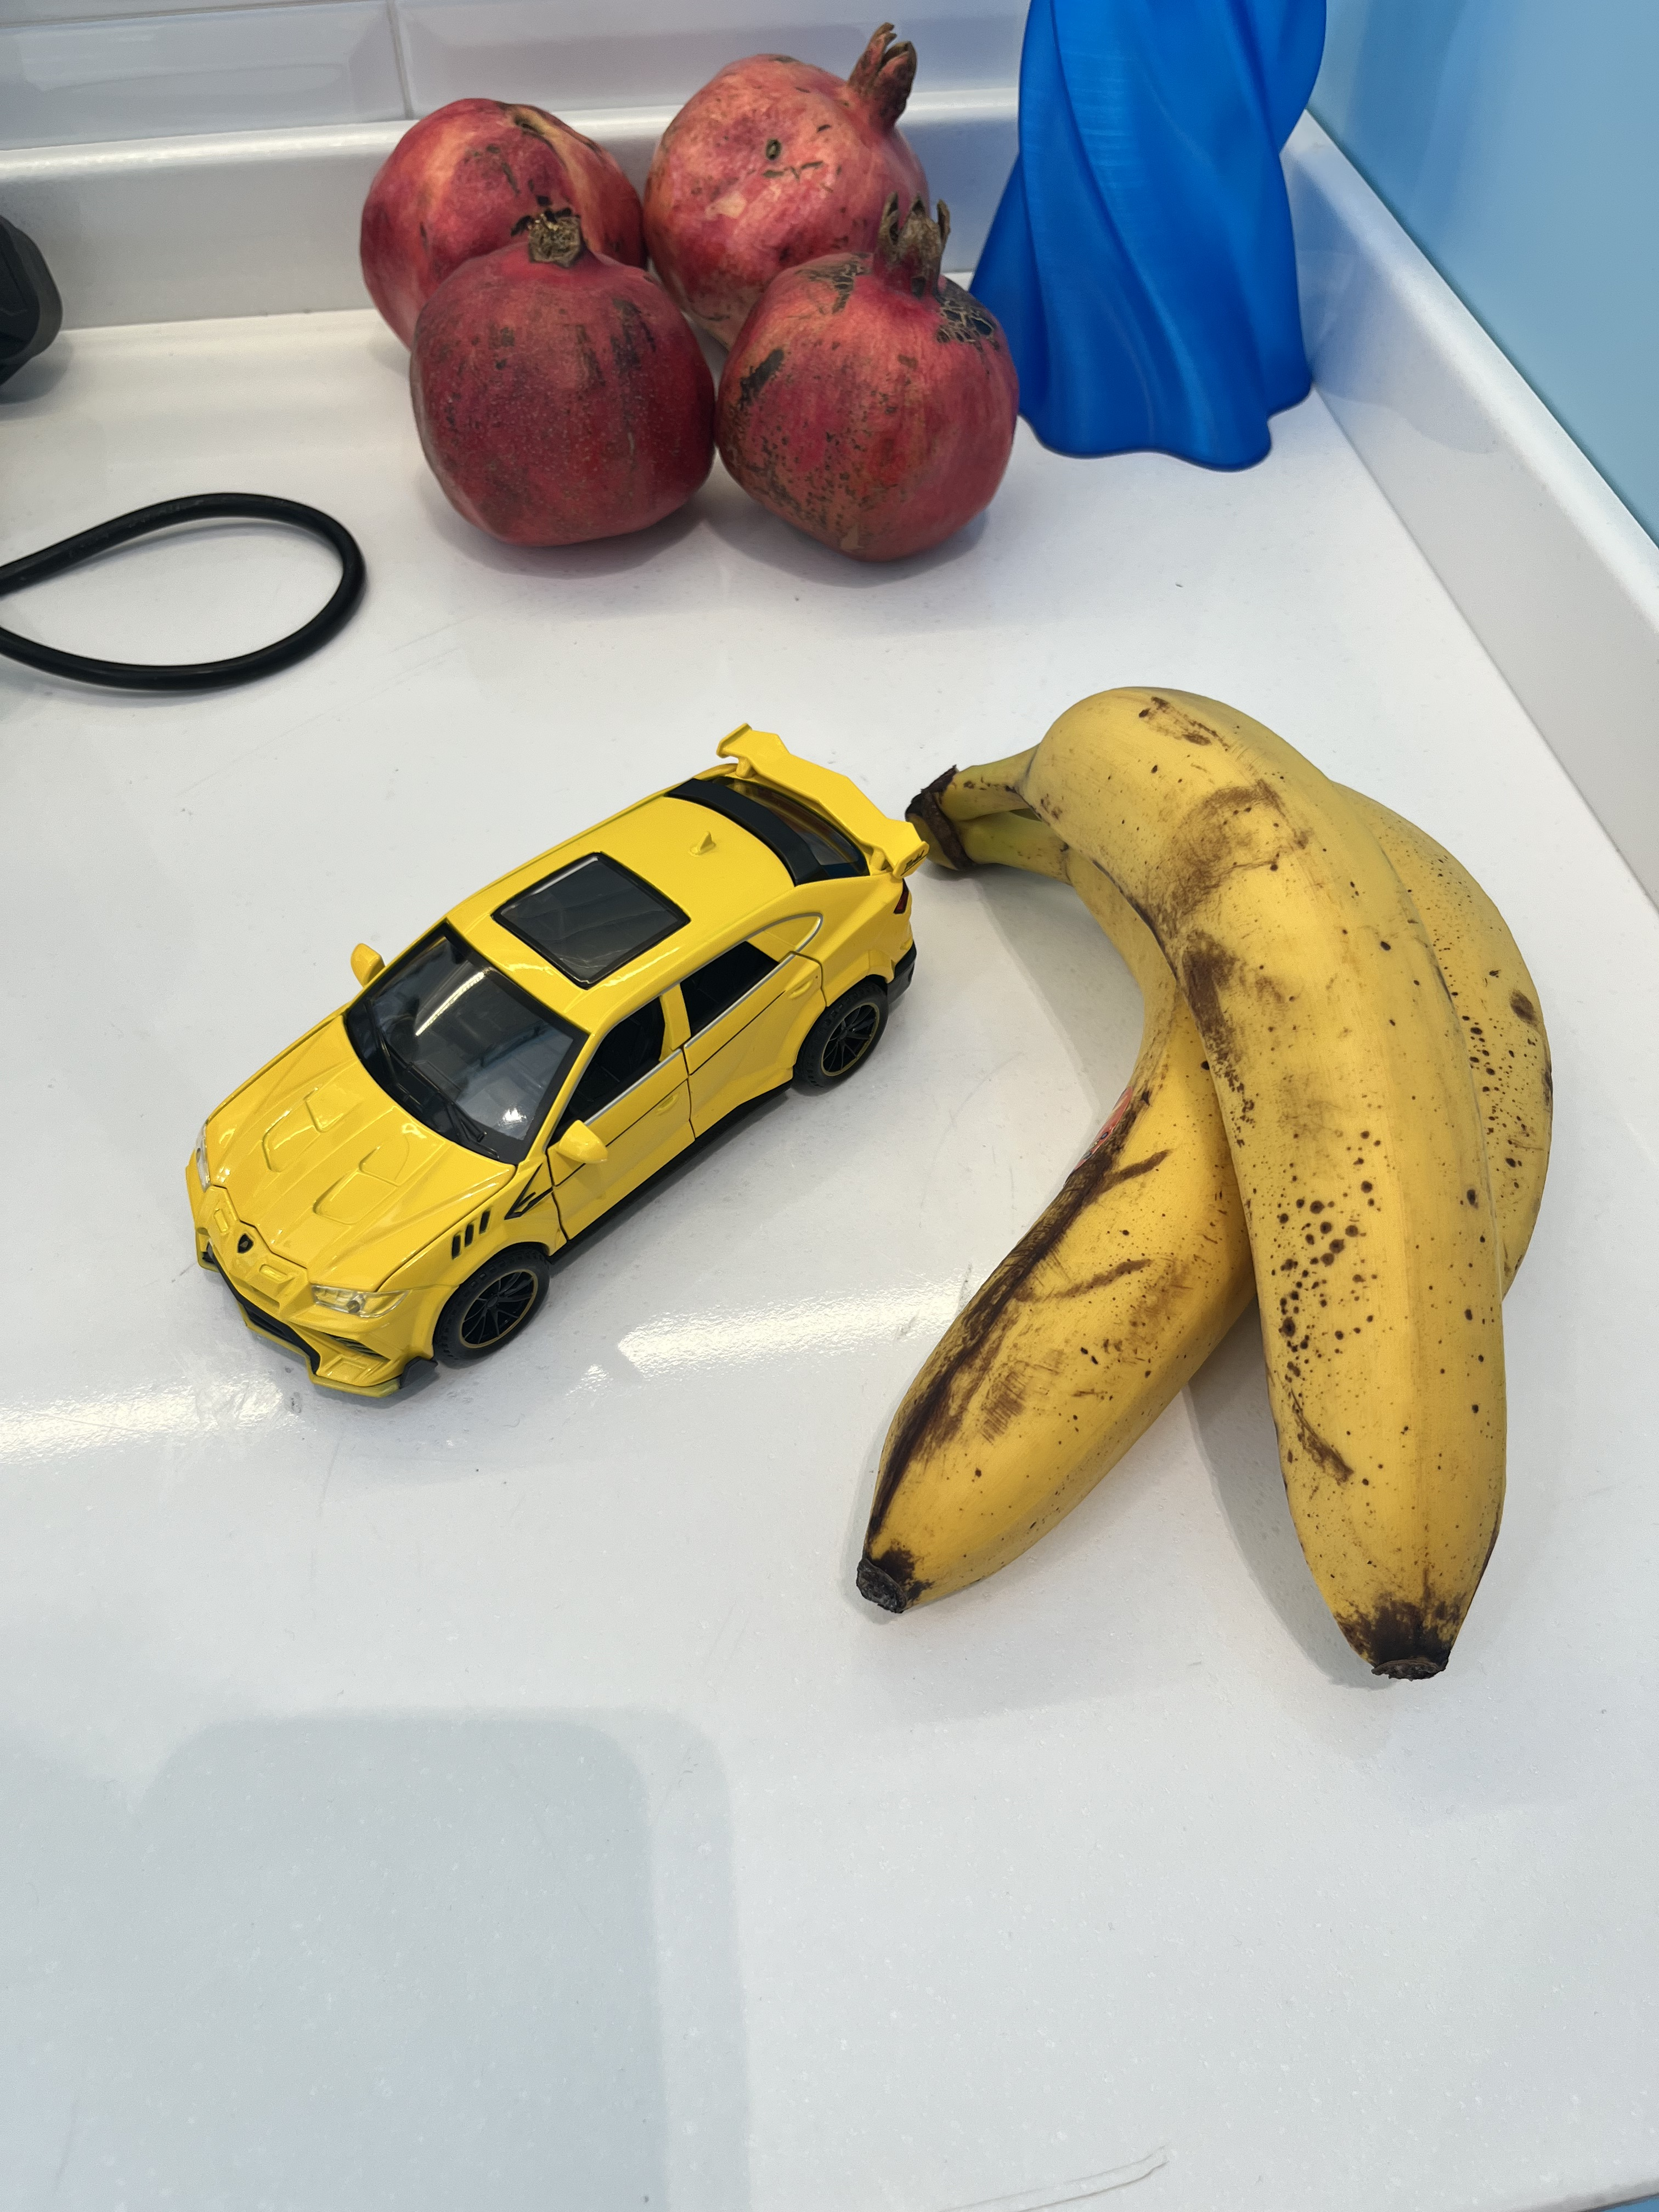lambo: (178, 712, 931, 1402)
